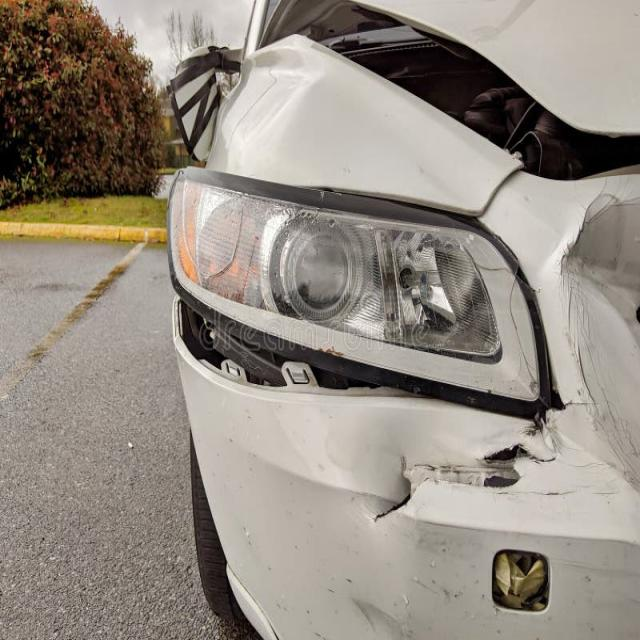misalignment: (234, 0, 640, 183), (169, 298, 548, 420), (313, 186, 494, 236)
scratch: (216, 179, 640, 640)
tear: (372, 430, 561, 526)
